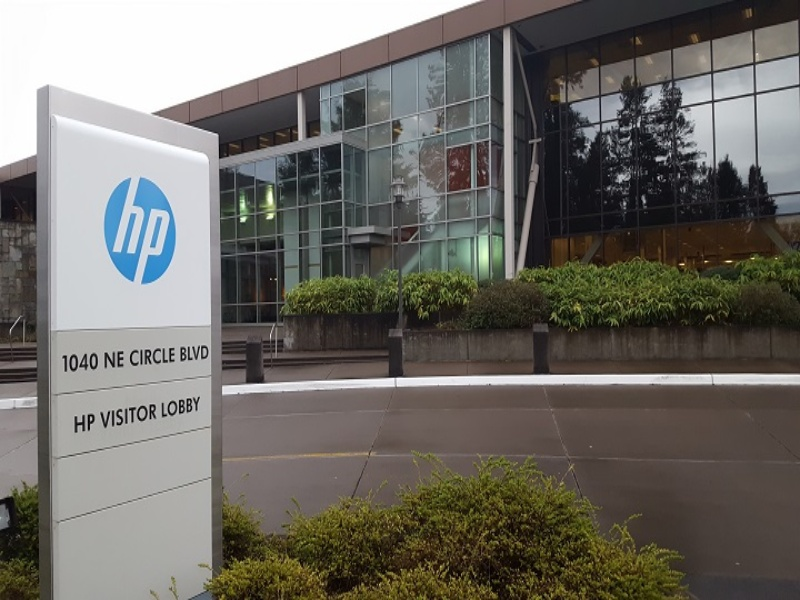hp: (110, 178, 171, 282)
